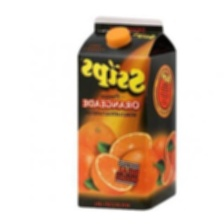carton: (74, 17, 178, 214)
